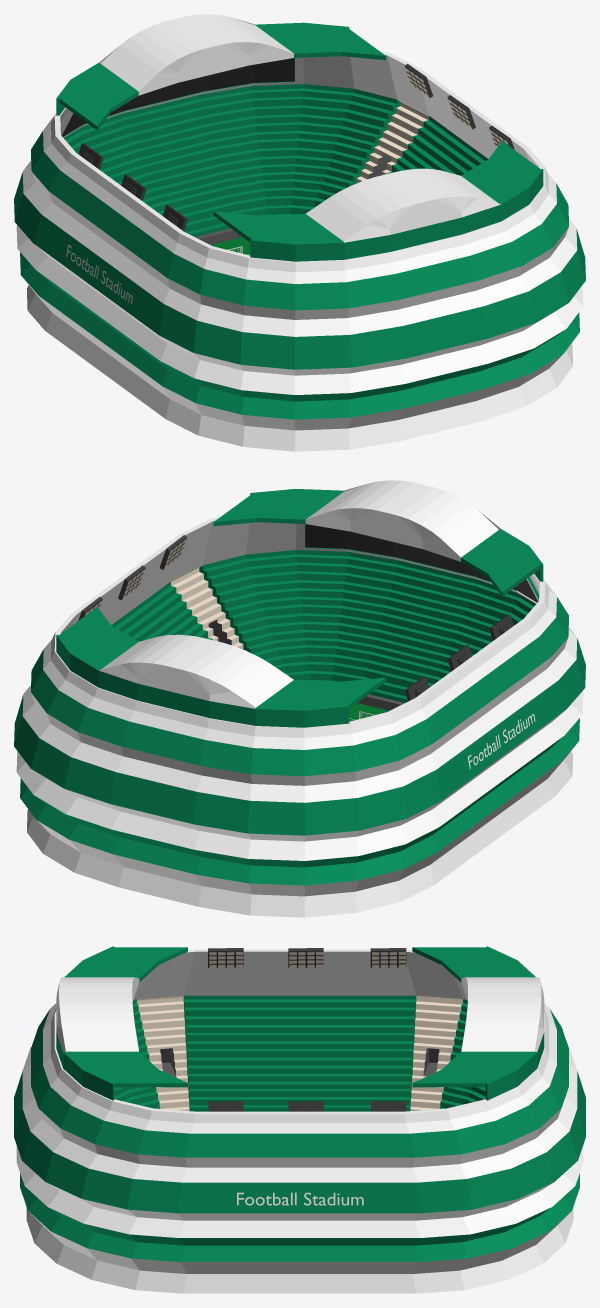
Rendered from Stadiumtest1.fbx.
3 renders of one model, top to bottom at view 1: azimuth 30°, elevation 25°; view 2: azimuth 150°, elevation 25°; view 3: azimuth 270°, elevation 25°, orthographic. The views are drawn at different scales.
Parts seen in each view (by area): view 1: Football Stadium; view 2: Football Stadium; view 3: Football Stadium, Object.004, Object.005, Object.006.
Part boxes in pixels (x1,y1,x2,y2): Football Stadium: (14, 14, 585, 451); Football Stadium: (14, 480, 585, 917); Football Stadium: (14, 946, 585, 1293); Object.004: (370, 948, 406, 967); Object.005: (288, 948, 323, 967); Object.006: (208, 948, 243, 967).
Size of the model in its own units: 203 by 103 by 256.
